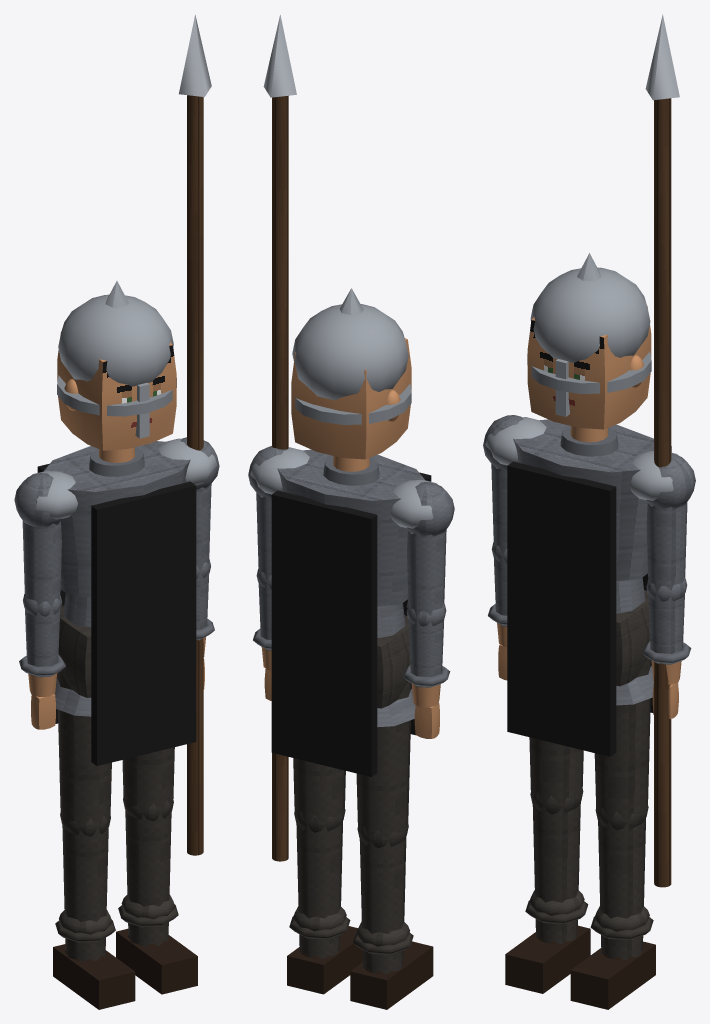
The model's file is guardia-2.glb.
The picture shows the model from 3 angles, left to right: view 1: azimuth 30°, elevation 25°; view 2: azimuth 150°, elevation 25°; view 3: azimuth 330°, elevation 25°; orthographic projection. The views are drawn at different scales.
Parts seen in each view (by area): view 1: guardia-2, object 30, object 36, object 33, object 1, object 10, object 3, object 7, object 14, object 17, object 8, object 19 (+16 smaller); view 2: guardia-2, object 36, object 30, object 33, object 1, object 3, object 10, object 7, object 17, object 8, object 14, object 19 (+16 smaller); view 3: guardia-2, object 30, object 36, object 33, object 8, object 3, object 10, object 14, object 7, object 24, object 1, object 26 (+15 smaller).
Boxes of the visible parts, x1,y1,x2,y2 form: guardia-2: (31,438,217,765); object 30: (187,95,203,855); object 36: (58,294,173,386); object 33: (57,331,176,450); object 1: (58,671,111,826); object 10: (125,808,171,946); object 3: (62,822,108,961); object 7: (53,944,135,1009); object 14: (116,928,197,994); object 17: (22,520,61,607); object 8: (122,747,174,811); object 19: (25,606,60,677); guardia-2: (250,447,437,776); object 36: (292,304,408,400); object 30: (272,95,288,861); object 33: (291,338,411,459); object 1: (356,681,410,838); object 3: (359,834,406,973); object 10: (296,819,342,958); object 7: (350,941,433,1009); object 17: (407,529,446,617); object 8: (293,758,345,822); object 14: (287,926,362,994); object 19: (408,616,444,687); guardia-2: (485,417,690,756); object 30: (654,98,671,887); object 36: (530,267,650,362); object 33: (527,305,651,429); object 8: (594,658,650,819); object 3: (532,800,580,943); object 10: (598,816,645,959); object 14: (570,941,655,1009); object 7: (505,925,590,993); object 24: (646,502,687,592); object 1: (529,737,583,803); object 26: (648,591,684,664).
Bounding box in the file's own units: 0.6115 × 2.79 × 0.3314.
16 materials, 4 textured.
